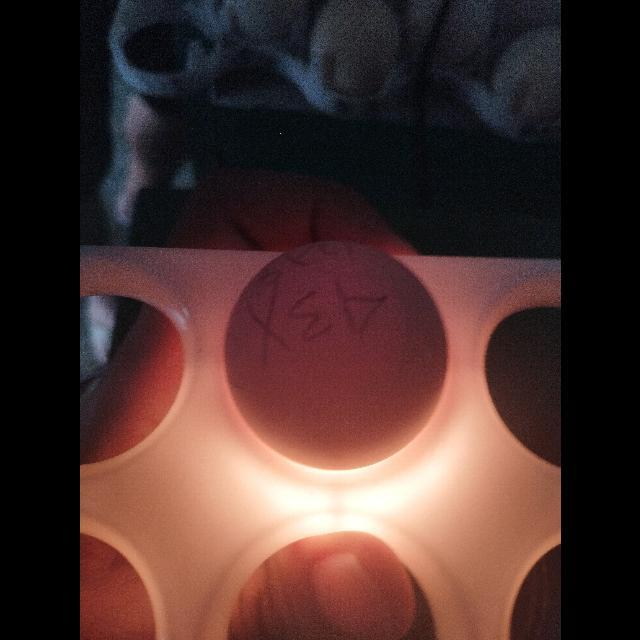Fertile: (220, 235, 454, 477)
